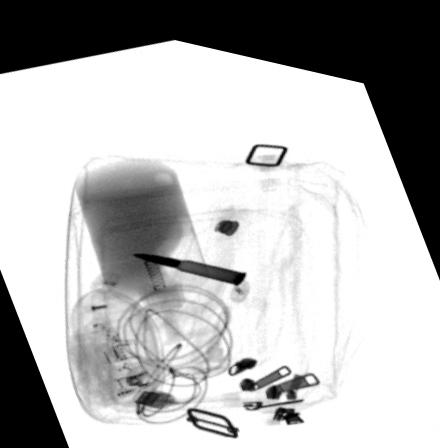Bullet: (128, 246, 248, 275)
